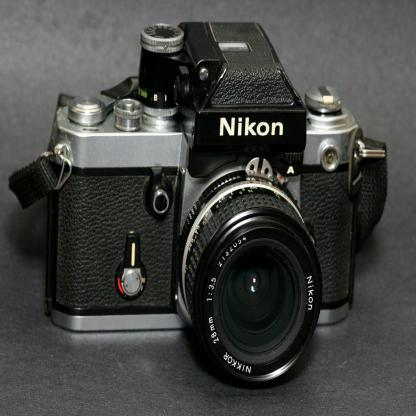Camera: (48, 19, 364, 387)
